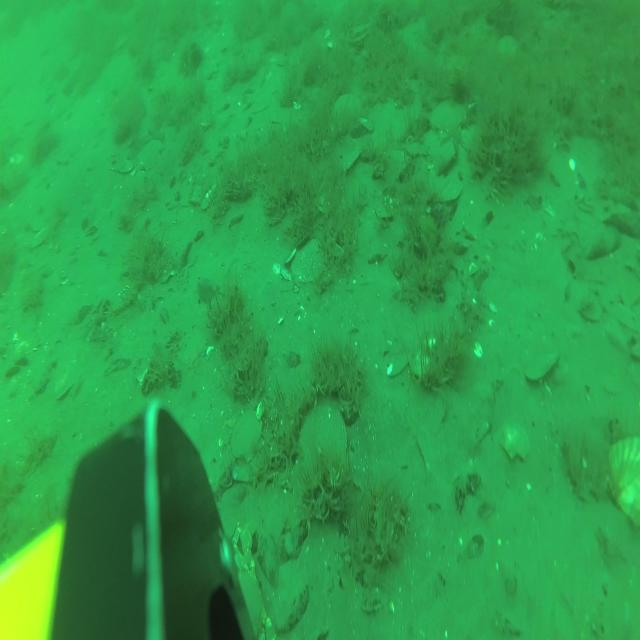scallop: (296, 399, 348, 484), (604, 434, 640, 532), (230, 410, 268, 468), (431, 94, 469, 145), (290, 236, 327, 286), (498, 415, 534, 462), (331, 90, 365, 128), (134, 135, 164, 173), (346, 19, 376, 49), (495, 31, 521, 61)
